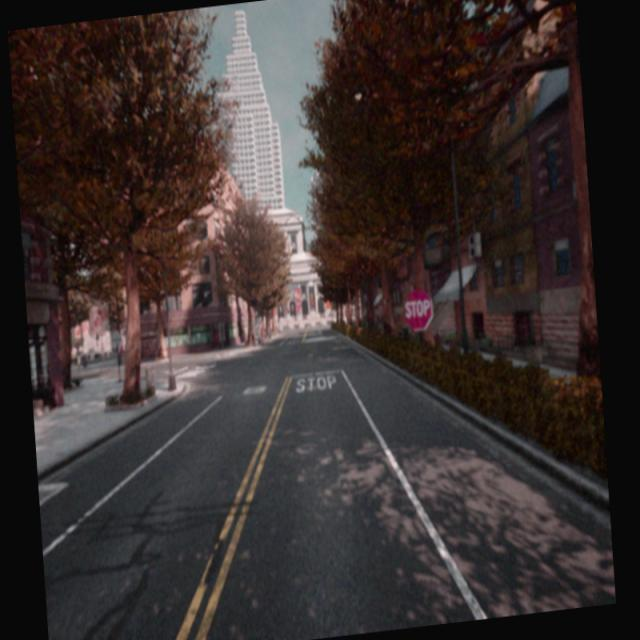stop sign: (401, 285, 435, 334), (404, 296, 431, 319)
